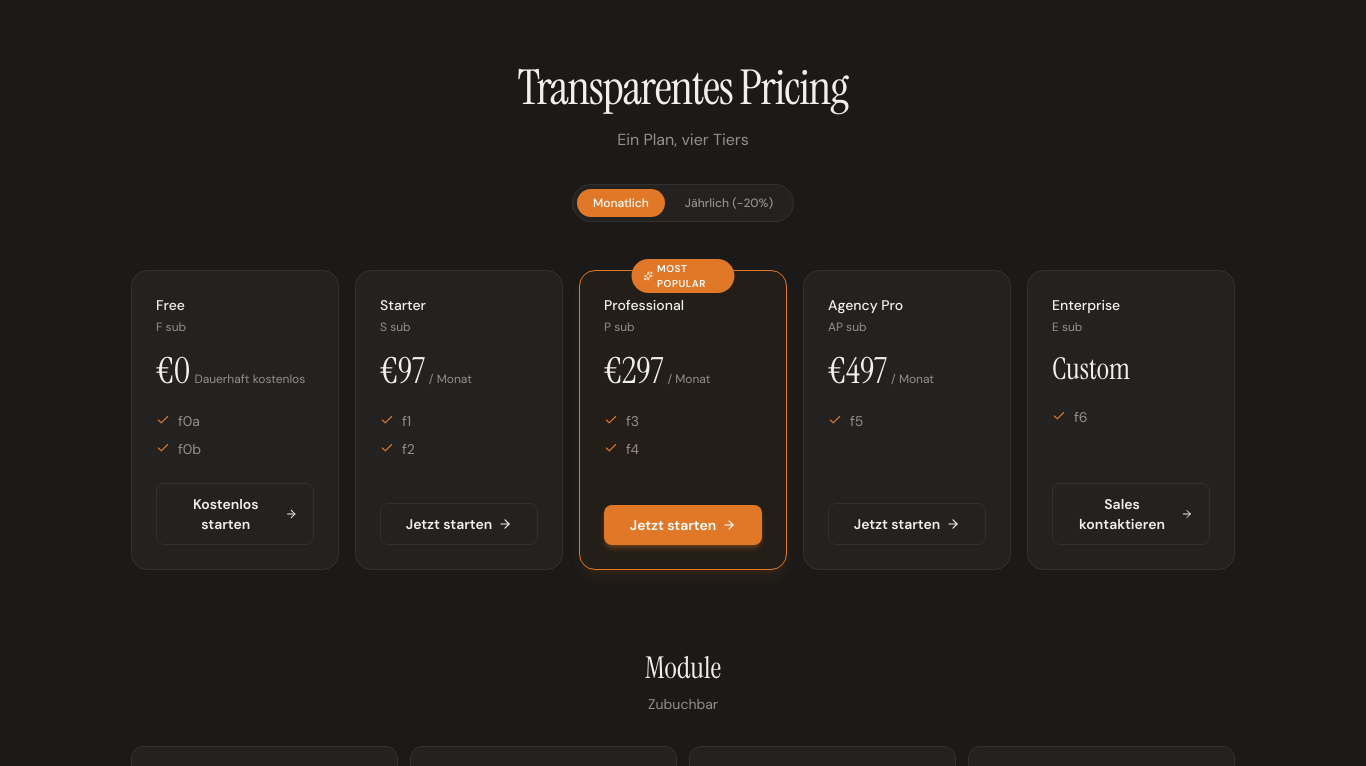
Test case: PricingClient — logged-in click handler › Logged-in + paid → network throw renders 'Network error' message
Step 1. Click the button with test id "pricing-tier-starter-cta" → (459, 524), box [380,503,538,545]
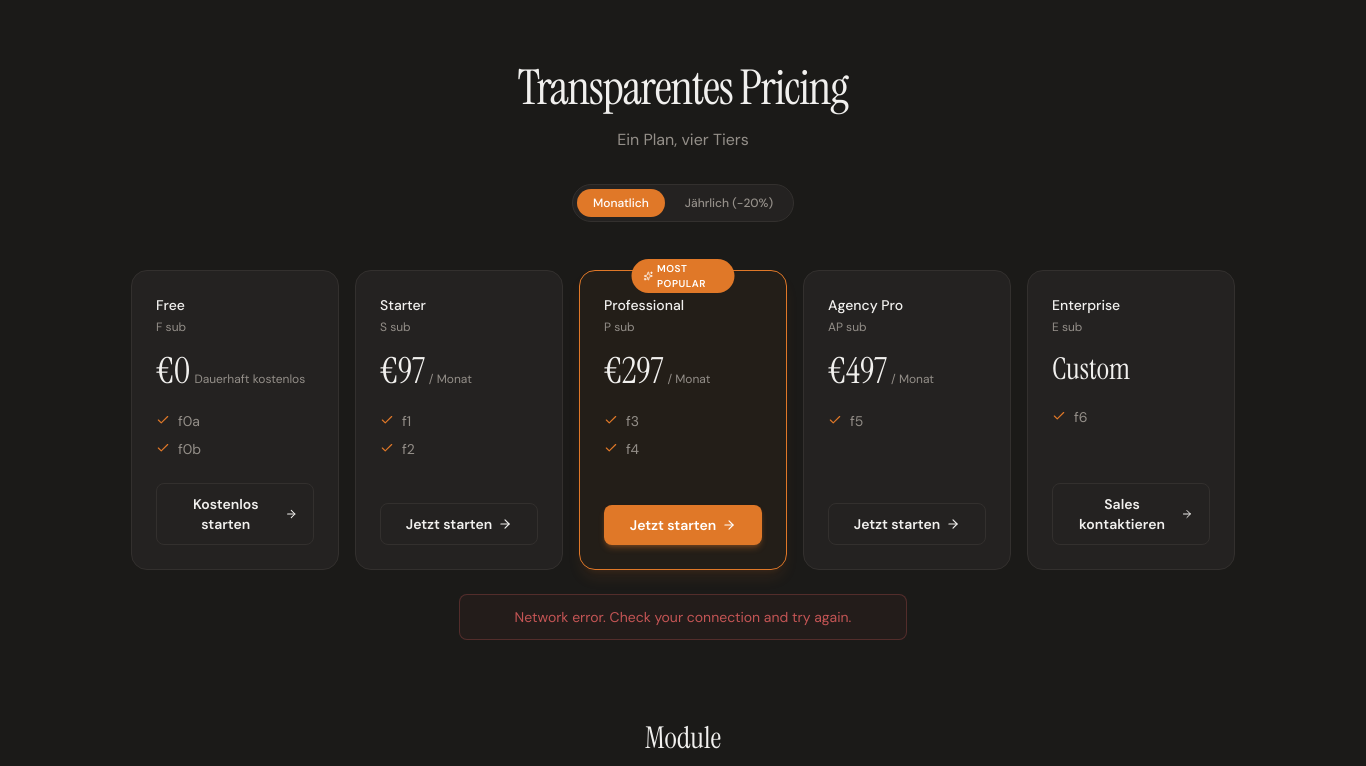
Expected: the message with test id "pricing-tier-error" shows "Network error", [515,608,851,626]
